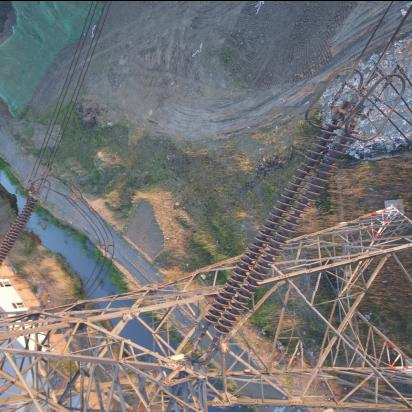insulator: (197, 120, 361, 349), (1, 194, 39, 279)
